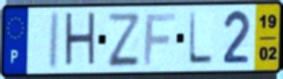2: (221, 8, 252, 68)
F: (142, 11, 178, 67)
H: (63, 10, 98, 70)
I: (46, 9, 62, 72)
L: (187, 11, 215, 67)
Z: (106, 11, 142, 69)
